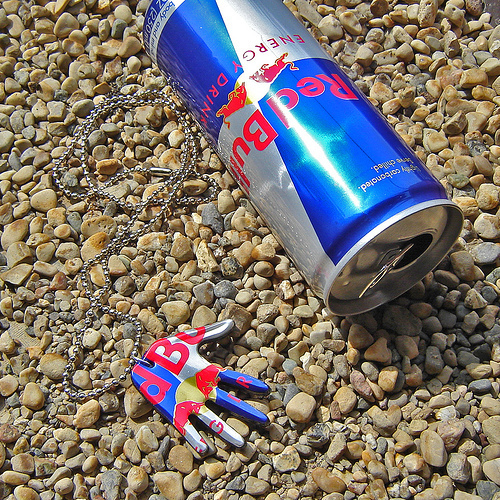litter: (142, 0, 464, 317), (53, 86, 221, 402), (127, 318, 276, 459)
